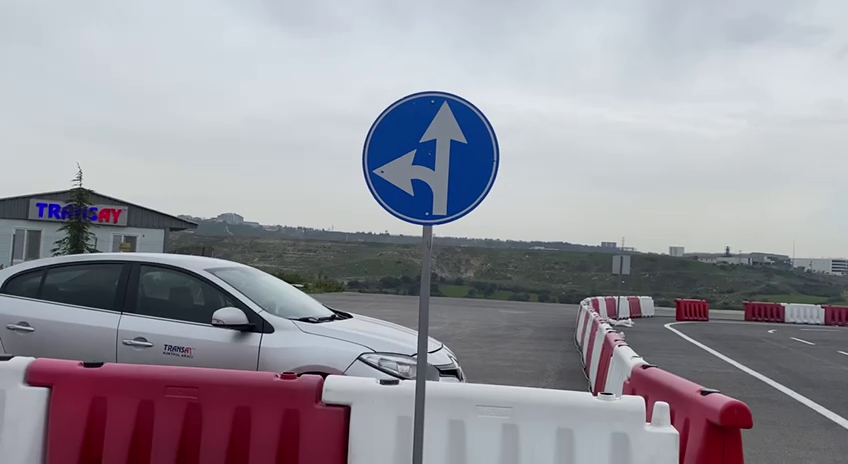forwardAndLeft: (359, 86, 504, 228)
